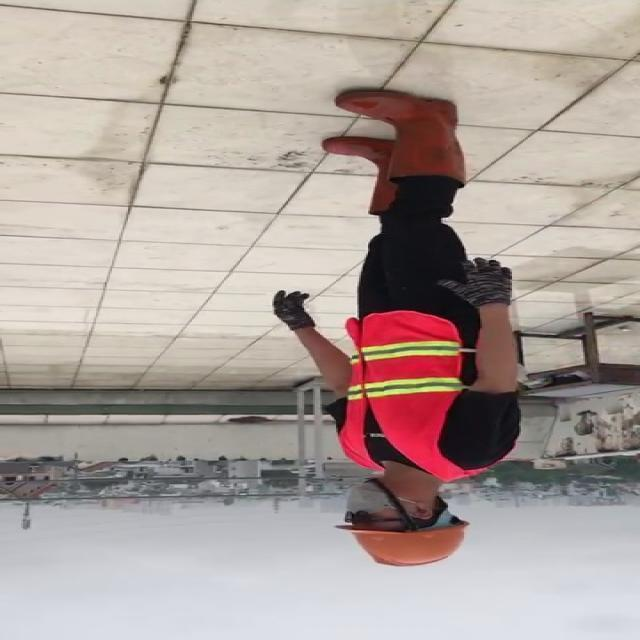gloves: (448, 254, 527, 306), (268, 284, 320, 336)
